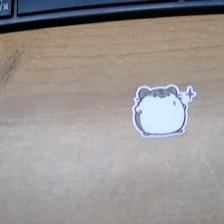mouse: (131, 85, 199, 140)
